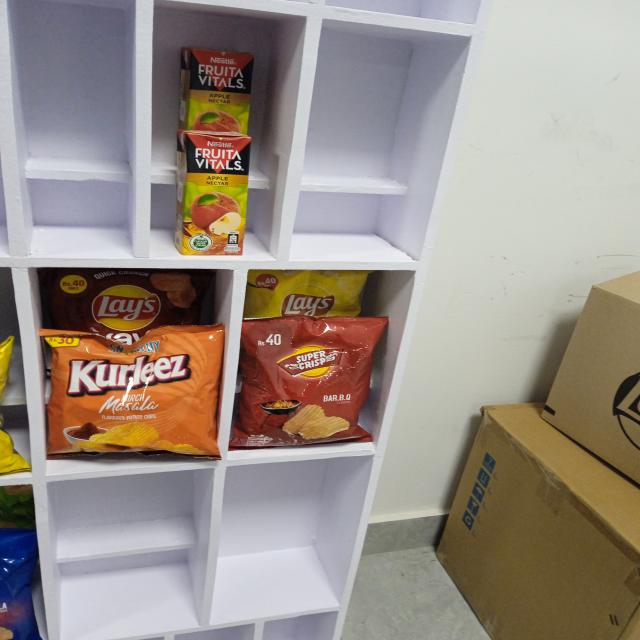Plastic: (41, 334, 222, 451), (248, 323, 380, 446), (42, 272, 214, 332), (182, 128, 250, 254), (182, 43, 252, 122), (250, 275, 365, 320), (4, 527, 35, 640)
